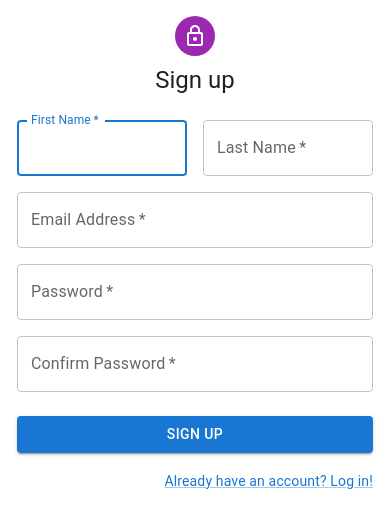
Sign Up Page › shows error message when email is invalid
Type "invalid-email" into the field labelled "Email Address *" at {"x": 195, "y": 220}, box [17,192,373,248]
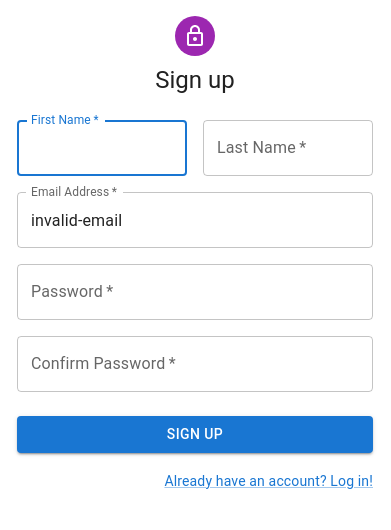
Type "Test" into the field labelled "First Name *" at {"x": 102, "y": 148}, box [17,120,187,176]
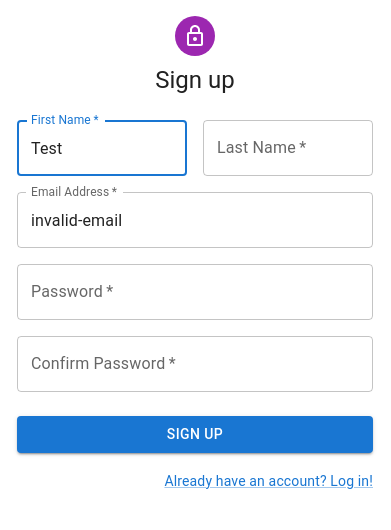
Type "User" into the field labelled "Last Name *" at {"x": 288, "y": 148}, box [203,120,373,176]
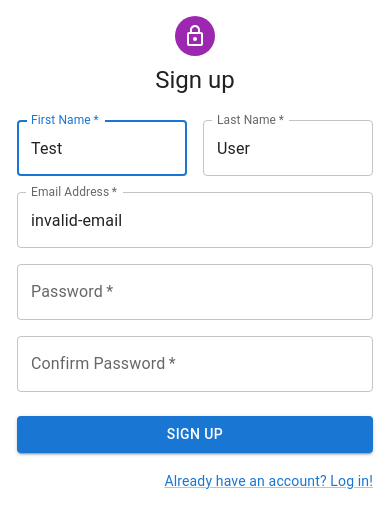
Type "password123" into the password field labelled "Password *" at {"x": 195, "y": 292}, box [17,264,373,320]
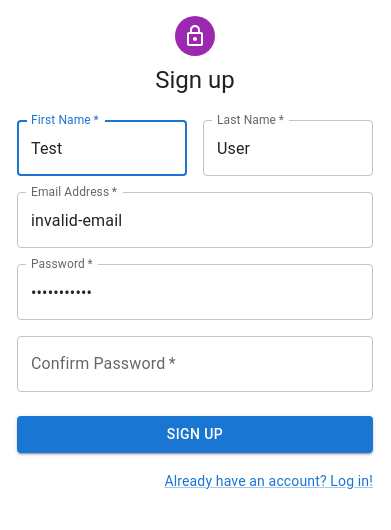
Type "password123" into the password field labelled "Confirm Password *" at {"x": 195, "y": 364}, box [17,336,373,392]
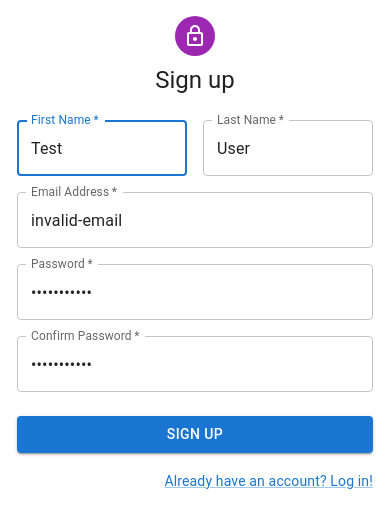
Click the button with test id "signup-button" at {"x": 195, "y": 434}, box [17,416,373,452]
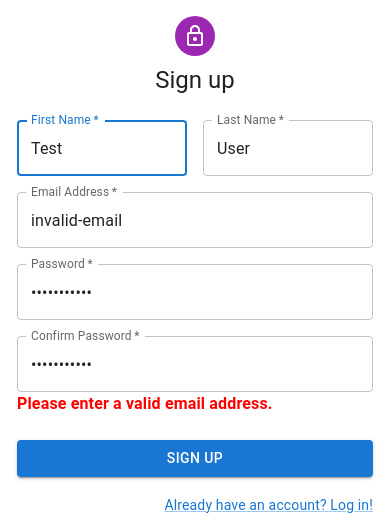
Result: the text "Please enter a valid email address." is shown at [17,394,273,413]
